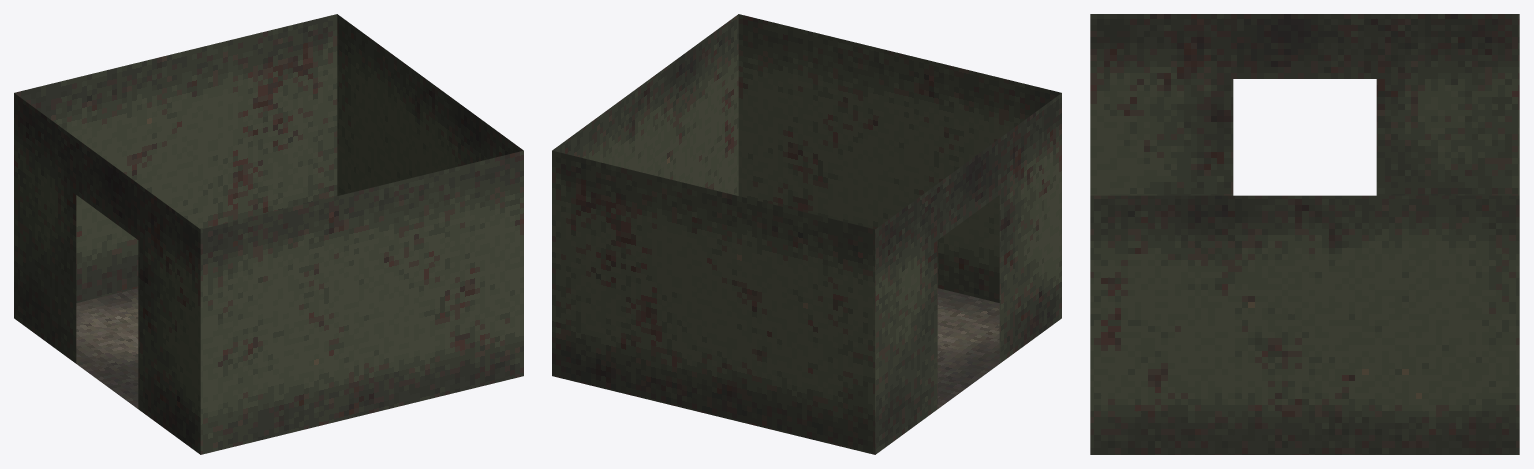
The model's file is start_room.gltf.
The picture shows the model from 3 angles, left to right: view 1: azimuth 30°, elevation 25°; view 2: azimuth 150°, elevation 25°; view 3: azimuth 270°, elevation 25°; orthographic projection. The views are drawn at different scales.
Visible parts, largest first — view 1: Plane; view 2: Plane; view 3: Plane.
Boxes of the visible parts, x1,y1,x2,y2 form: Plane: (14, 14, 523, 454); Plane: (552, 14, 1061, 454); Plane: (1090, 14, 1519, 454).
Bounding box in the file's own units: 6 × 4 × 6.
2 materials, 2 textured.
